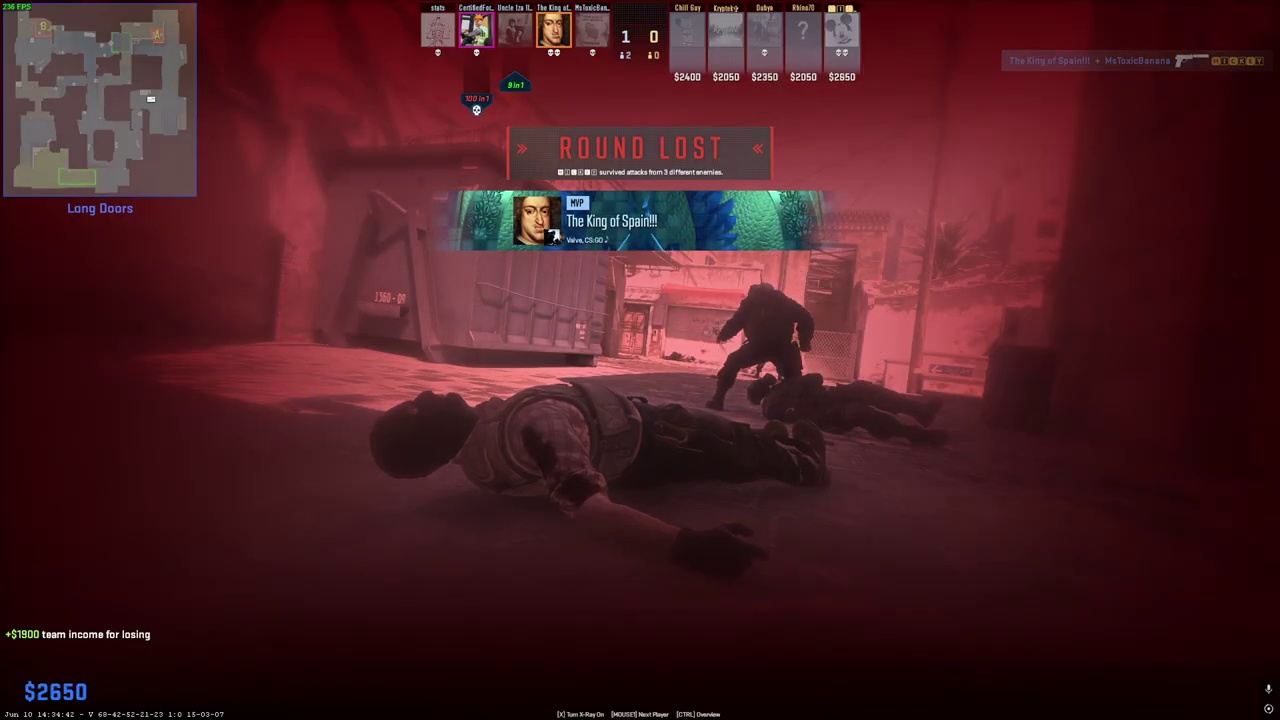CT: (716, 283, 809, 411)
